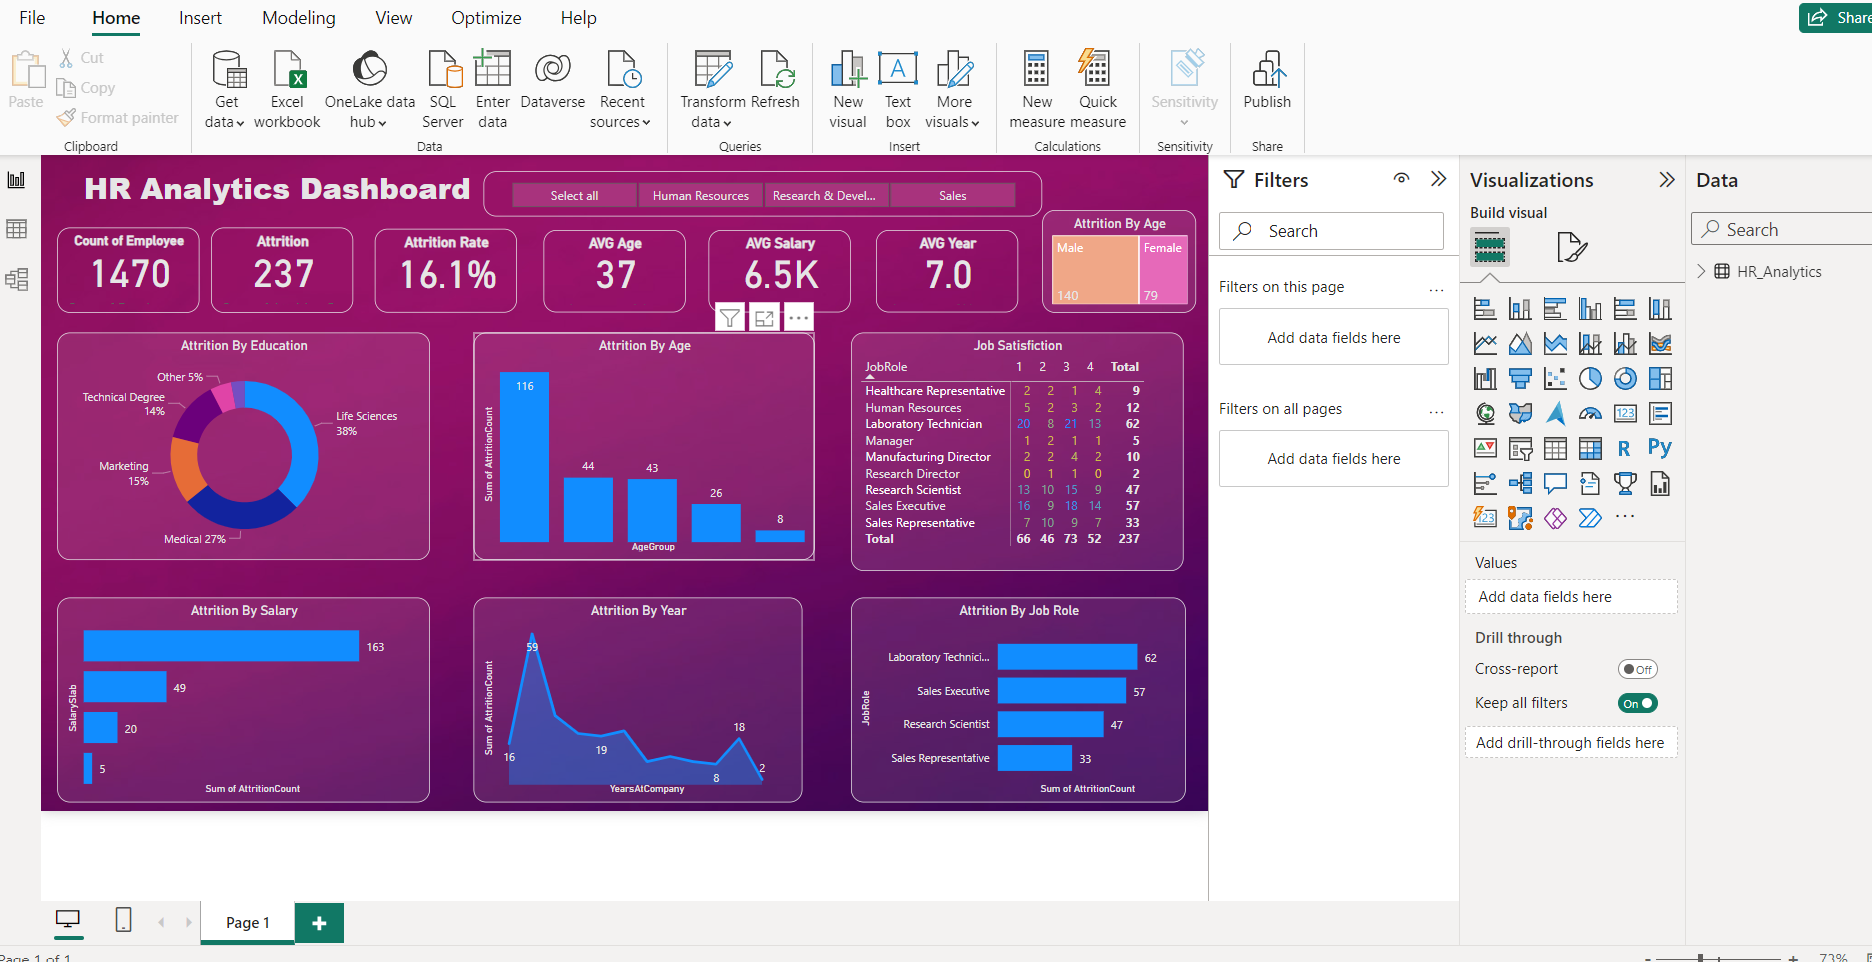

The dashboard page shown, as its layout file describes it:
{"tool":"powerbi","page":{"name":"Page 1","canvas":[1280,720],"ordinal":0},"visuals":[{"type":"card","title":"Count of Employee","fields":{"Values":["Sum(HR_Analytics.EmployeeCount)"]},"box":[17.8,79.5,156.3,93.2],"z":0},{"type":"card","title":"Attrition Rate","fields":{"Values":["HR_Analytics.AttritionRate"]},"box":[366.1,80.9,156.3,91.9],"z":1000},{"type":"card","title":"AVG Age","fields":{"Values":["Avg(HR_Analytics.Age)"]},"box":[551.2,82.3,156.3,90.5],"z":2000},{"type":"card","title":"Attrition","fields":{"Values":["Sum(HR_Analytics.AttritionCount)"]},"box":[186.5,79.5,156.3,93.2],"z":3000},{"type":"card","title":"AVG Year","fields":{"Values":["Avg(HR_Analytics.YearsAtCompany)"]},"box":[915.9,82.3,156.3,90.5],"z":4000},{"type":"card","title":"AVG Salary","fields":{"Values":["Avg(HR_Analytics.MonthlyIncome)"]},"box":[732.1,82.3,156.3,90.5],"z":5000},{"type":"donutChart","title":"Attrition By Education","fields":{"Category":["HR_Analytics.EducationField"],"Y":["Sum(HR_Analytics.AttritionCount)"]},"box":[18.4,194.7,408.6,249.5],"z":6000},{"type":"columnChart","title":"Attrition By Age","fields":{"Category":["HR_Analytics.AgeGroup"],"Y":["Sum(HR_Analytics.AttritionCount)"]},"box":[474.9,194.7,374.3,249.5],"z":7000},{"type":"pivotTable","title":"Job Satisfiction","fields":{"Rows":["HR_Analytics.JobRole"],"Columns":["HR_Analytics.JobSatisfaction"],"Values":["Sum(HR_Analytics.AttritionCount)"]},"box":[889,194.7,364.7,261.9],"z":8000},{"type":"barChart","title":"Attrition By Salary","fields":{"Category":["HR_Analytics.SalarySlab"],"Y":["Sum(HR_Analytics.AttritionCount)"]},"box":[18.4,485.4,408.6,224.9],"z":9000},{"type":"barChart","title":"Attrition By Job Role","fields":{"Y":["Sum(HR_Analytics.AttritionCount)"],"Category":["HR_Analytics.JobRole"]},"box":[889,485.4,367.4,224.9],"z":10000},{"type":"areaChart","title":"Attrition By Year","fields":{"Category":["HR_Analytics.YearsAtCompany"],"Y":["Sum(HR_Analytics.AttritionCount)"]},"box":[474.9,485.4,360.6,224.9],"z":11000},{"type":"treemap","title":"Attrition By Age","fields":{"Values":["Sum(HR_Analytics.AttritionCount)"],"Group":["HR_Analytics.Gender"]},"box":[1098.2,60.3,168.6,112.4],"z":12000},{"type":"slicer","fields":{"Values":["HR_Analytics.Department"]},"box":[485.4,17.8,612.9,49.4],"z":13000},{"type":"textbox","box":[8,8,502,72],"z":14000}]}

Visuals, with their boxes on the page's 1280x720 design canvas (x1, y1, x2, y2). These are canvas units, not pixel positions in the 1872x962 screenshot, which may show the page scaled, cropped or inside an application window:
"Count of Employee" card: 18,80,174,173
"Attrition Rate" card: 366,81,522,173
"AVG Age" card: 551,82,708,173
"Attrition" card: 186,80,343,173
"AVG Year" card: 916,82,1072,173
"AVG Salary" card: 732,82,888,173
"Attrition By Education" donutChart: 18,195,427,444
"Attrition By Age" columnChart: 475,195,849,444
"Job Satisfiction" pivotTable: 889,195,1254,457
"Attrition By Salary" barChart: 18,485,427,710
"Attrition By Job Role" barChart: 889,485,1256,710
"Attrition By Year" areaChart: 475,485,836,710
"Attrition By Age" treemap: 1098,60,1267,173
slicer - HR_Analytics.Department: 485,18,1098,67
textbox: 8,8,510,80
